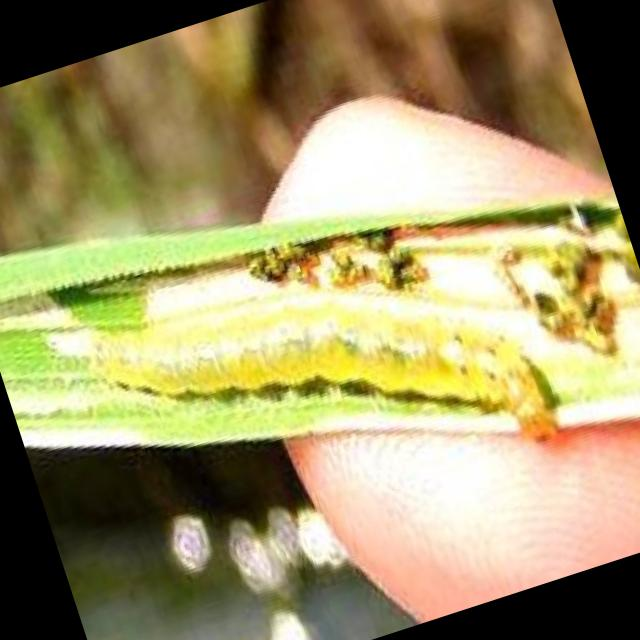leaf-folder: (76, 185, 593, 563)
